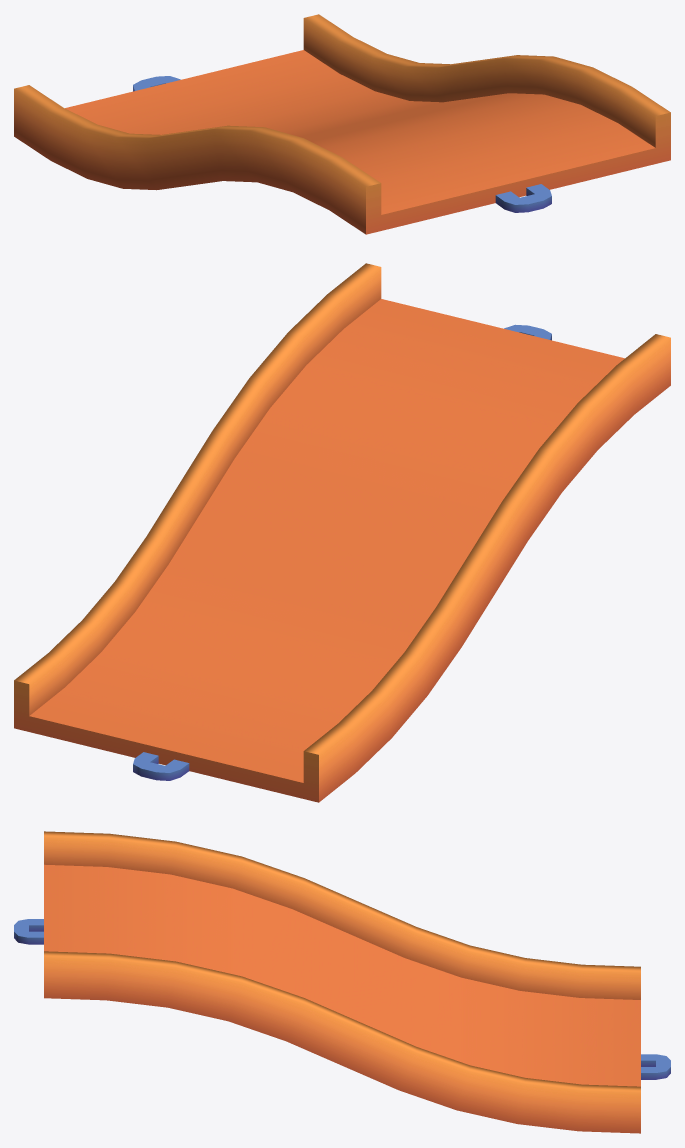
File: track-wide-straight-hill-complete.glb
3 renders of one model, top to bottom at view 1: azimuth 30°, elevation 25°; view 2: azimuth 150°, elevation 25°; view 3: azimuth 270°, elevation 25°, orthographic. The views are drawn at different scales.
Parts seen in each view (by area): view 1: track-wide-straight-hill-complete; view 2: track-wide-straight-hill-complete; view 3: track-wide-straight-hill-complete.
Boxes of the visible parts, <box> form: track-wide-straight-hill-complete: <box>14,14,670,234</box>; track-wide-straight-hill-complete: <box>14,263,670,802</box>; track-wide-straight-hill-complete: <box>14,831,670,1133</box>.
Size of the model in its own units: 2 by 1.3 by 4.4.
Materials: 1 (1 with a texture image).
